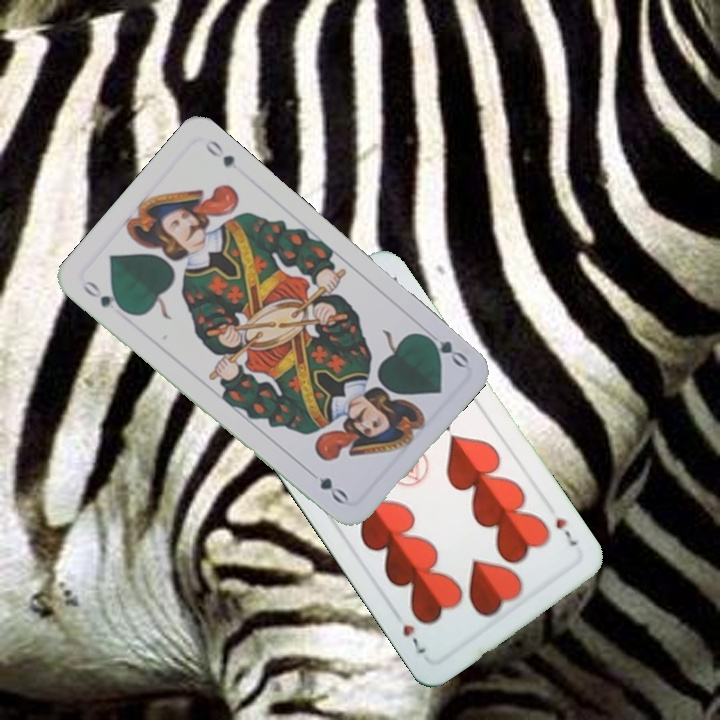GO: (417, 324, 471, 370), (77, 276, 130, 316)
H7: (551, 514, 580, 551)
